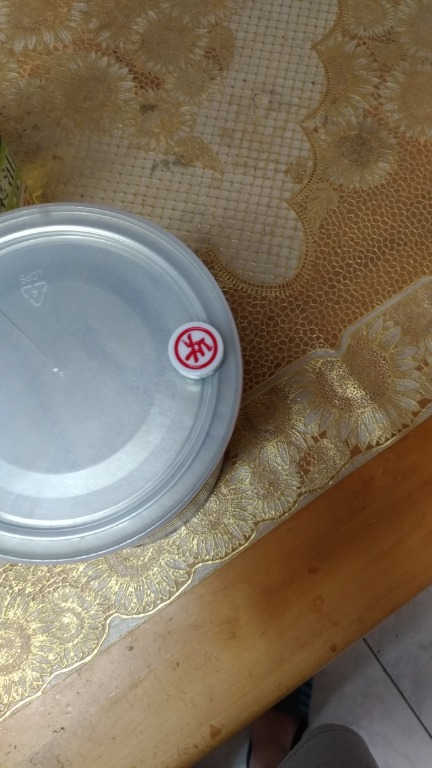r-pawn: (153, 320, 235, 384)
